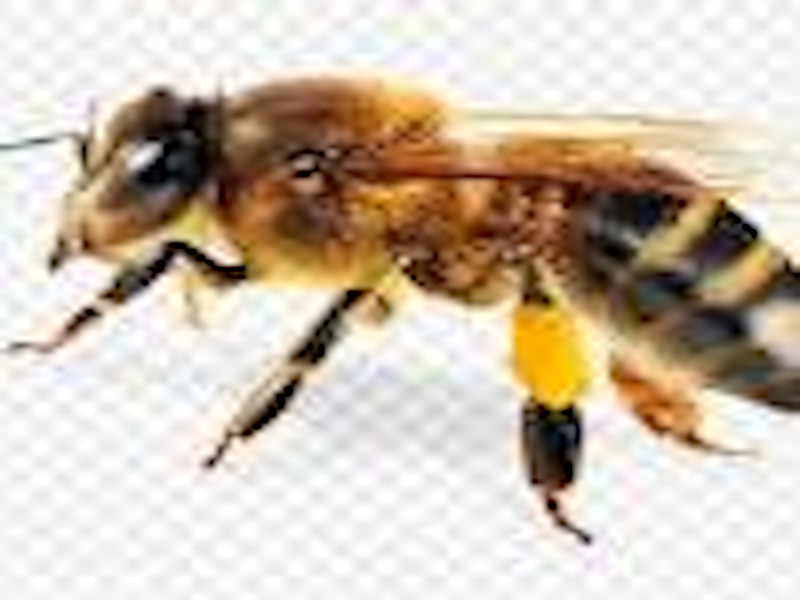abeja: (16, 52, 800, 539)
